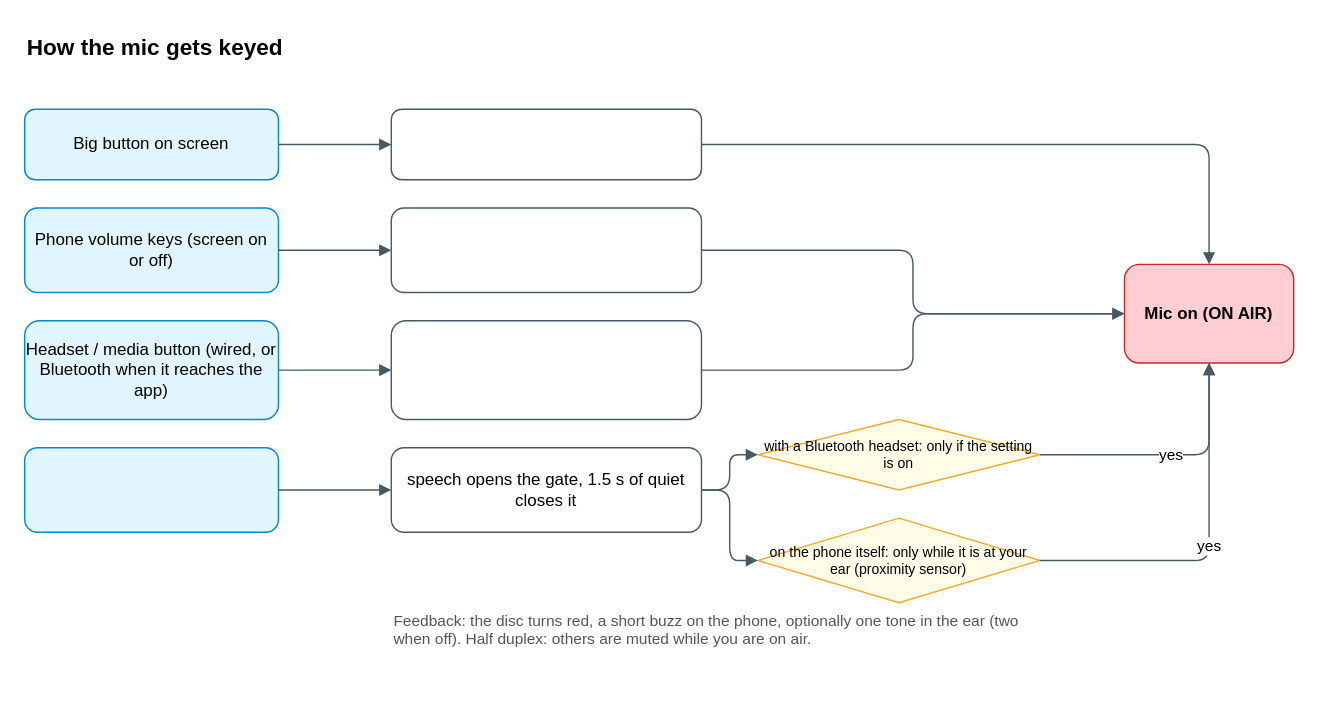
Some shapes in this 1318 by 711 pixel diagram are drawn without their labels. Each missing label, with the box of its shape:
click = on / off hold = talk while held: (390, 319, 701, 419)
Half duplex: hold to talk Full duplex: tap to toggle: (390, 108, 701, 180)
press = on, next press = off (a held key counts once): (390, 207, 701, 293)
Your voice (Voice keys the mic): (23, 446, 278, 532)
